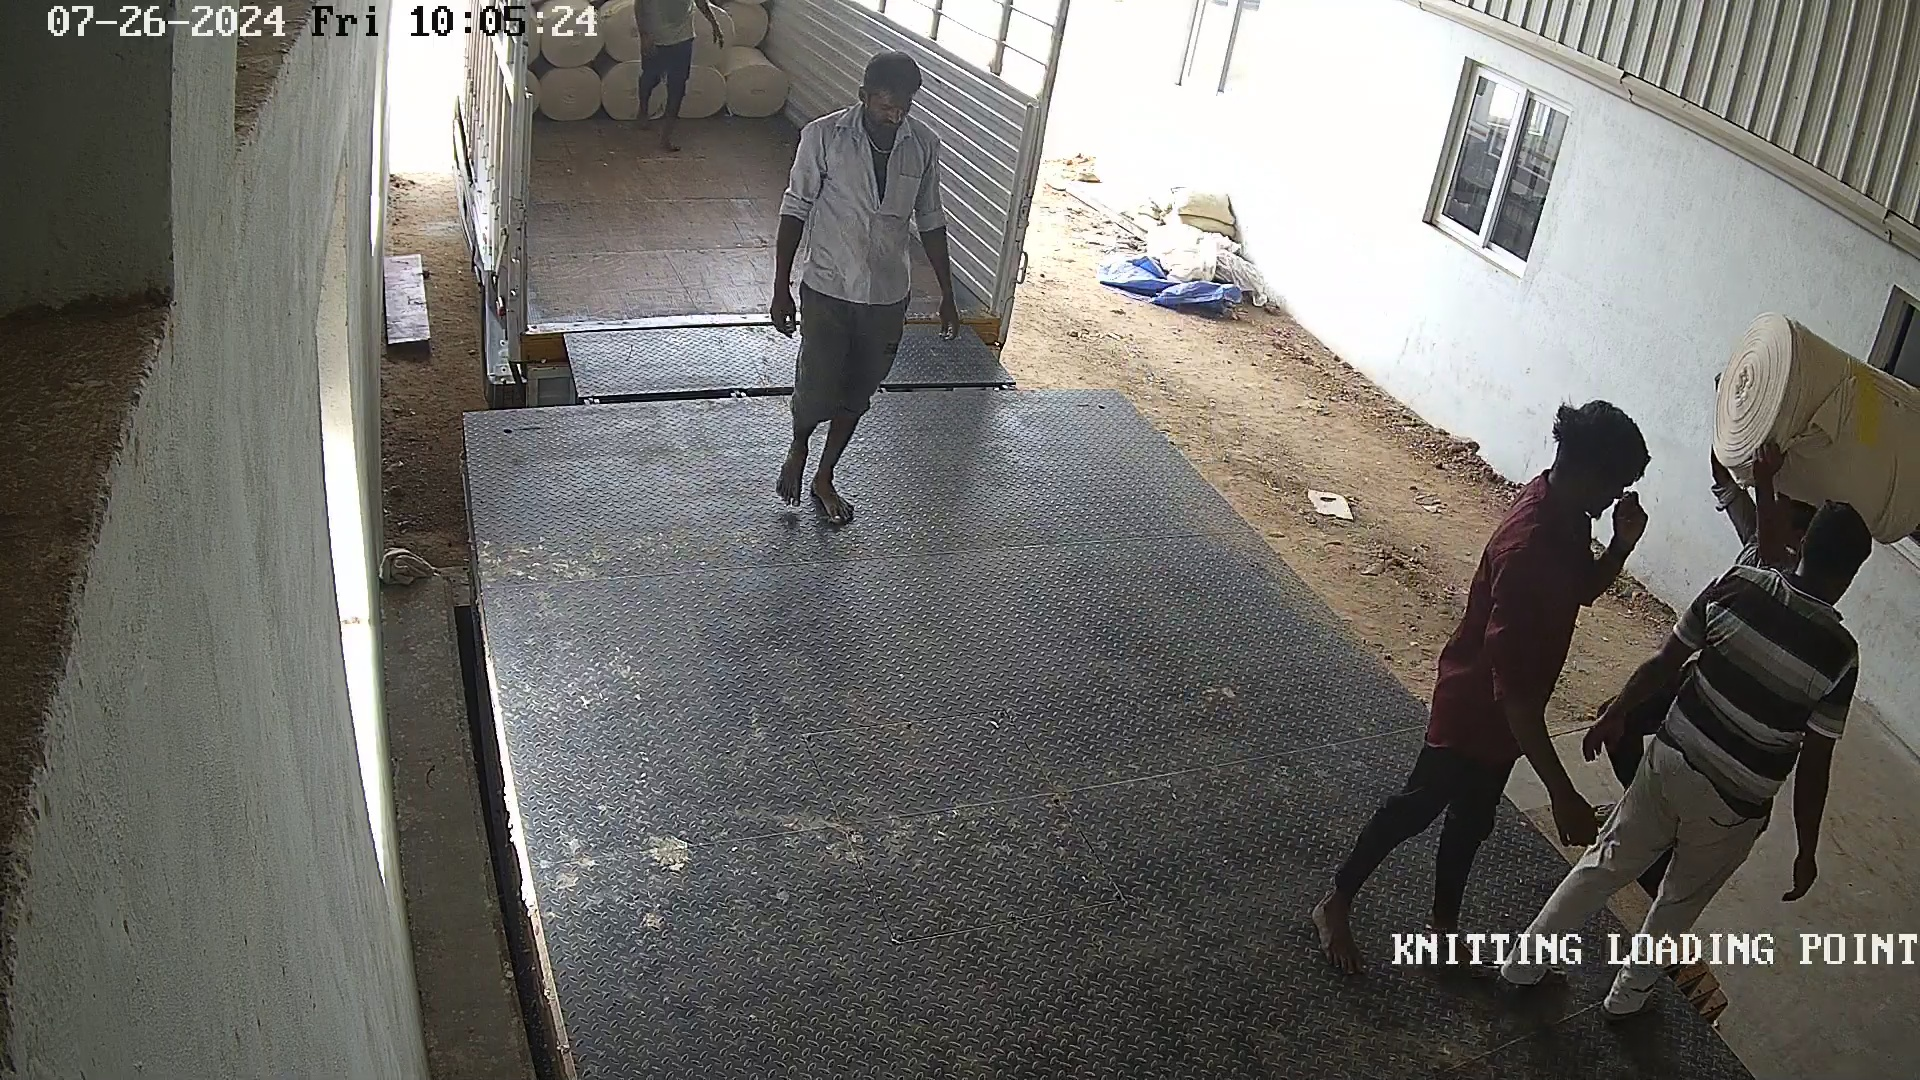bag: (1698, 291, 1920, 550)
